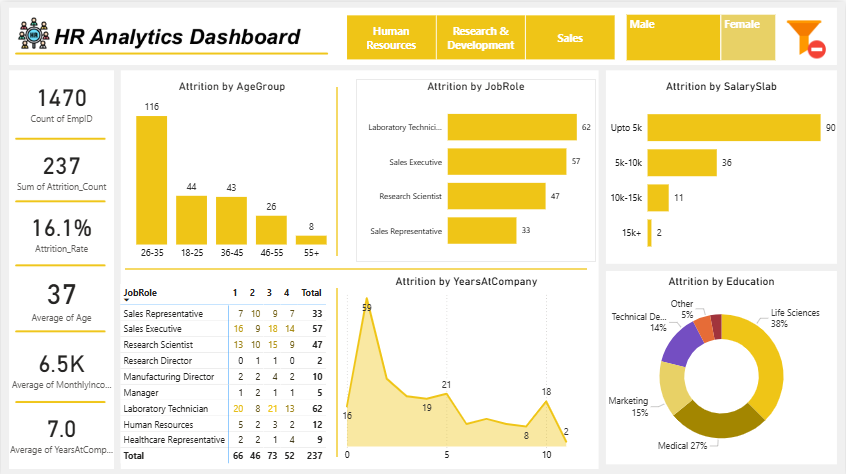

The page's visual inventory and layout, read from the dashboard file:
{"tool":"powerbi","page":{"name":"Page 1","canvas":[1280,720],"ordinal":0},"visuals":[{"type":"card","fields":{"Values":["CountNonNull(HR_Analytics.EmpID)"]},"box":[7.6,93.9,168.2,112.1],"z":0},{"type":"card","fields":{"Values":["HR_Analytics.Attrition_Rate"]},"box":[7.6,300,168.2,93.9],"z":1000},{"type":"card","fields":{"Values":["Sum(HR_Analytics.Attrition_Count)"]},"box":[7.6,206.1,168.2,93.9],"z":2000},{"type":"card","fields":{"Values":["Avg(HR_Analytics.Age)"]},"box":[7.6,393.9,168.2,106.1],"z":3000},{"type":"card","fields":{"Values":["Avg(HR_Analytics.YearsAtCompany)"]},"box":[7.6,598.5,168.2,106.1],"z":4000},{"type":"card","fields":{"Values":["Avg(HR_Analytics.MonthlyIncome)"]},"box":[7.6,500,168.2,106.1],"z":5000},{"type":"columnChart","title":"Attrition by AgeGroup","fields":{"Y":["Sum(HR_Analytics.Attrition_Count)"],"Category":["HR_Analytics.AgeGroup"]},"box":[175.8,116.7,348.5,281.8],"z":6000},{"type":"barChart","title":"Attrition by JobRole","fields":{"Category":["HR_Analytics.JobRole"],"Y":["Sum(HR_Analytics.Attrition_Count)"]},"box":[537.9,116.7,363.6,277.3],"z":7000},{"type":"barChart","title":"Attrition by SalarySlab","fields":{"Category":["HR_Analytics.SalarySlab"],"Y":["Sum(HR_Analytics.Attrition_Count)"]},"box":[913.6,116.7,356.1,281.8],"z":8000},{"type":"pivotTable","fields":{"Rows":["HR_Analytics.JobRole"],"Columns":["HR_Analytics.JobSatisfaction"],"Values":["Sum(HR_Analytics.Attrition_Count)"]},"box":[175.8,422.7,322.7,281.8],"z":9000},{"type":"areaChart","title":"Attrition by YearsAtCompany","fields":{"Category":["HR_Analytics.YearsAtCompany"],"Y":["Sum(HR_Analytics.Attrition_Count)"]},"box":[509.1,412.1,392.4,292.4],"z":10000},{"type":"donutChart","title":"Attrition by Education","fields":{"Category":["HR_Analytics.EducationField"],"Y":["Sum(HR_Analytics.Attrition_Count)"]},"box":[913.6,412.1,356.1,290.9],"z":11000},{"type":"shape","box":[187.9,389.4,700,30.3],"z":12000},{"type":"shape","box":[487.9,128.8,42.4,256.1],"z":12001},{"type":"shape","box":[487.9,433.3,42.4,256.1],"z":12002},{"type":"treemap","fields":{"Values":["Sum(HR_Analytics.Attrition_Count)"],"Group":["HR_Analytics.Gender"]},"box":[942.4,13.6,236.4,80.3],"z":12003},{"type":"slicer","fields":{"Values":["HR_Analytics.Department"]},"box":[498.5,13.6,454.5,80.3],"z":12005},{"type":"image","box":[1178.8,13.6,75.8,78.8],"z":12006}]}

Visuals, with their boxes in screenshot pixels (x1, y1, x2, y2), scaled from the page's 1280x720 canvas onto the 846x474 screenshot:
card - CountNonNull(HR_Analytics.EmpID): Rect(5, 62, 116, 136)
card - HR_Analytics.Attrition_Rate: Rect(5, 198, 116, 259)
card - Sum(HR_Analytics.Attrition_Count): Rect(5, 136, 116, 198)
card - Avg(HR_Analytics.Age): Rect(5, 259, 116, 329)
card - Avg(HR_Analytics.YearsAtCompany): Rect(5, 394, 116, 464)
card - Avg(HR_Analytics.MonthlyIncome): Rect(5, 329, 116, 399)
"Attrition by AgeGroup" columnChart: Rect(116, 77, 347, 262)
"Attrition by JobRole" barChart: Rect(356, 77, 596, 259)
"Attrition by SalarySlab" barChart: Rect(604, 77, 839, 262)
pivotTable - HR_Analytics.JobRole x HR_Analytics.JobSatisfaction: Rect(116, 278, 329, 464)
"Attrition by YearsAtCompany" areaChart: Rect(336, 271, 596, 464)
"Attrition by Education" donutChart: Rect(604, 271, 839, 463)
shape: Rect(124, 256, 587, 276)
shape: Rect(322, 85, 350, 253)
shape: Rect(322, 285, 350, 454)
treemap - Sum(HR_Analytics.Attrition_Count) x HR_Analytics.Gender: Rect(623, 9, 779, 62)
slicer - HR_Analytics.Department: Rect(329, 9, 630, 62)
image: Rect(779, 9, 829, 61)
